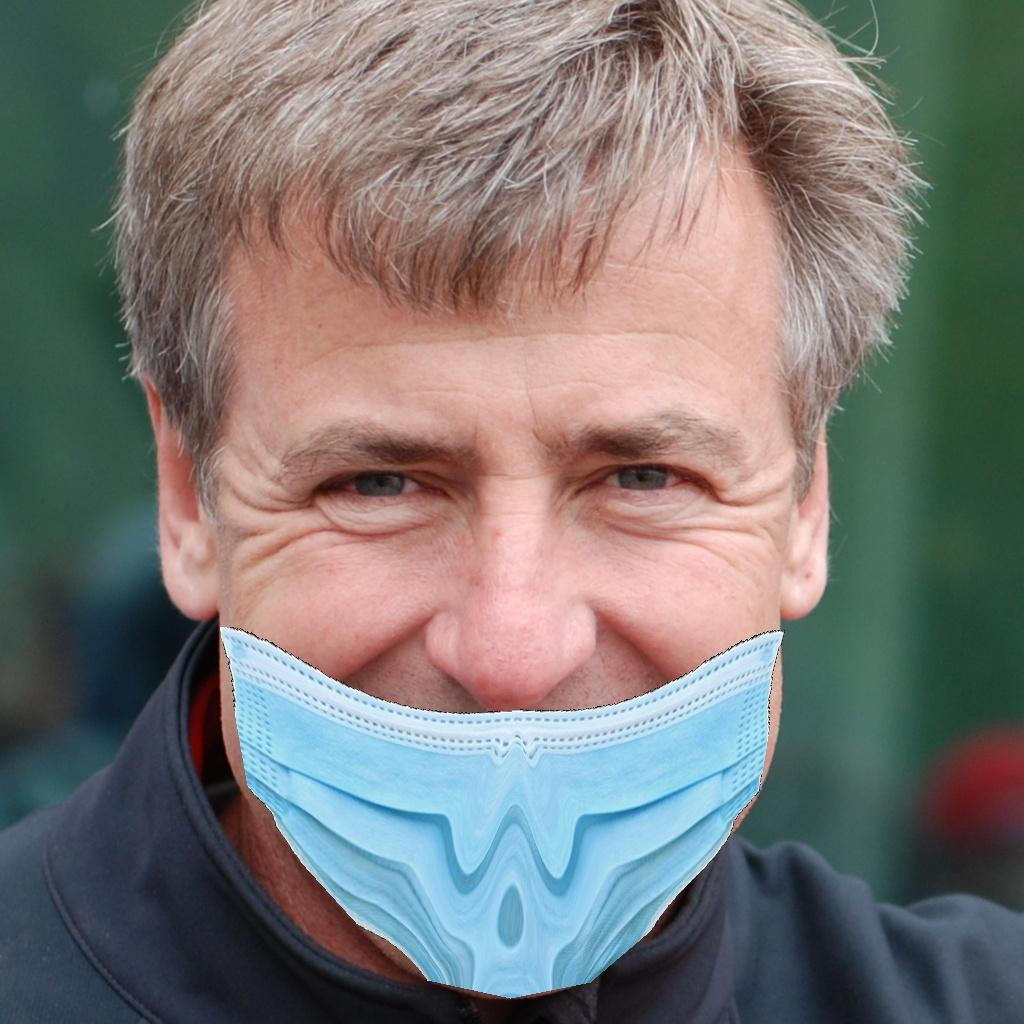Máscara Incorreta: (156, 230, 824, 989)
